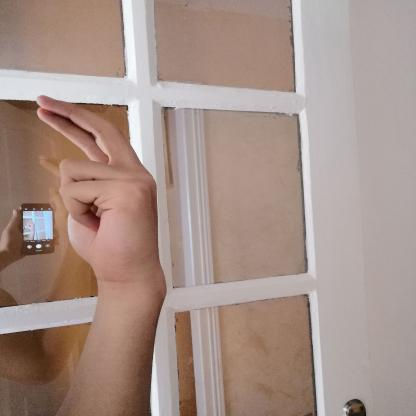ZAY: (23, 88, 171, 297)
